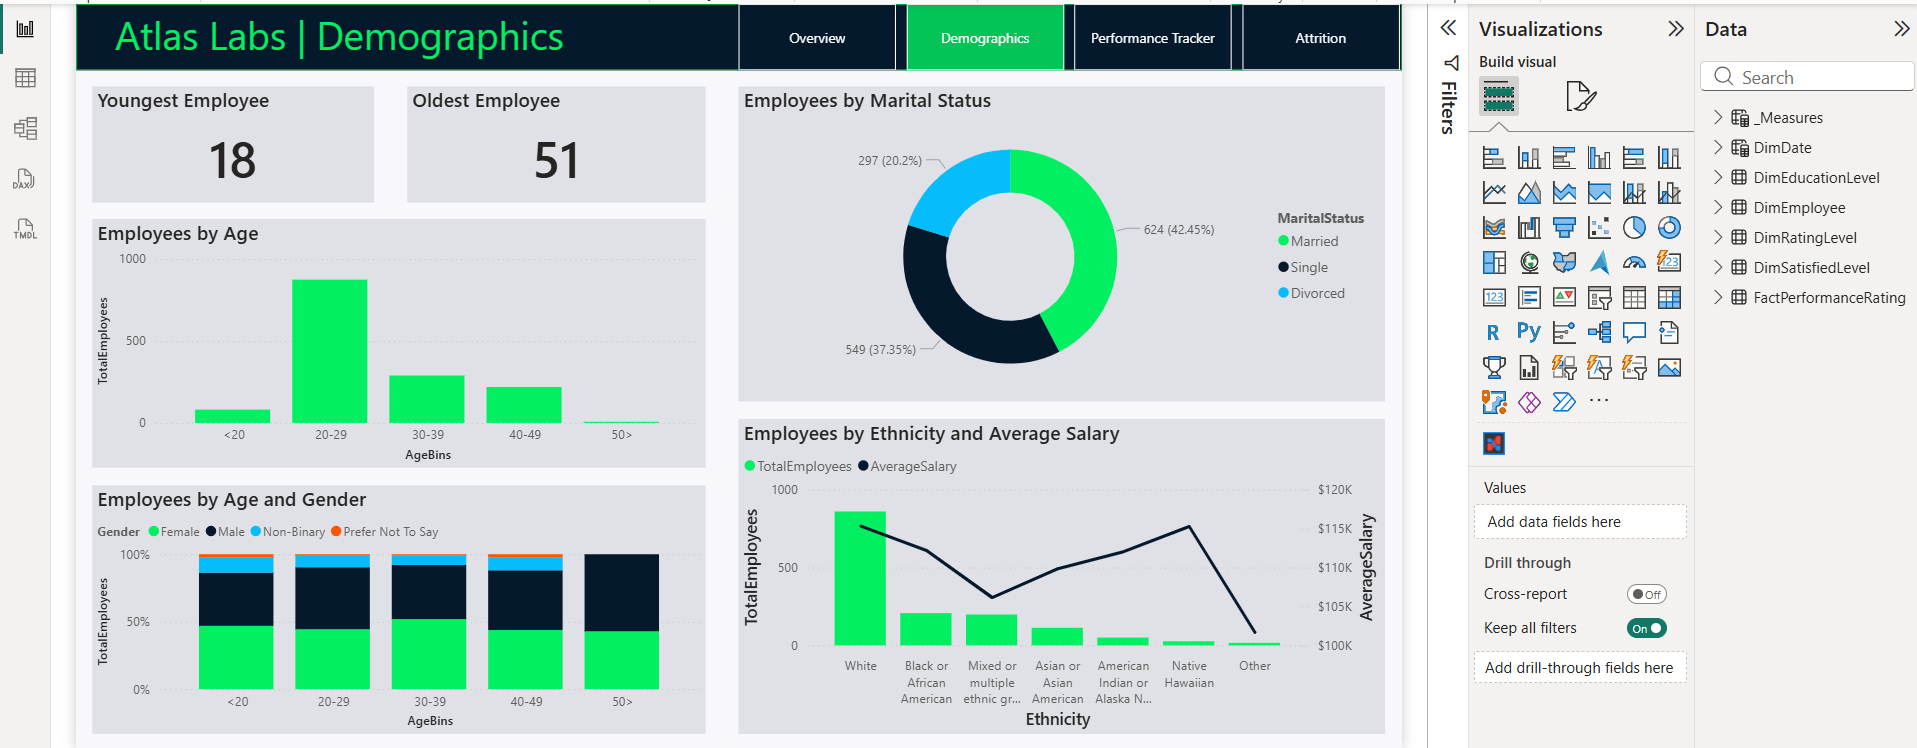

This screenshot's page, from the dashboard's own definition file:
{"tool":"powerbi","page":{"name":"Demographics","canvas":[1280,720],"ordinal":1},"visuals":[{"type":"card","title":"Youngest Employee","fields":{"Values":["Sum(DimEmployee.Age)"]},"box":[16,80,272,112],"z":0},{"type":"card","title":"Oldest Employee","fields":{"Values":["Sum(DimEmployee.Age)"]},"box":[320,80,288,112],"z":1000},{"type":"columnChart","title":"Employees by Age","fields":{"Category":["DimEmployee.AgeBins"],"Y":["_Measures.TotalEmployees"]},"box":[16,208,592,240],"z":2000},{"type":"hundredPercentStackedColumnChart","title":"Employees by Age and Gender","fields":{"Category":["DimEmployee.AgeBins"],"Series":["DimEmployee.Gender"],"Y":["_Measures.TotalEmployees"]},"box":[16,464,592,240],"z":3000},{"type":"donutChart","title":"Employees by Marital Status","fields":{"Category":["DimEmployee.MaritalStatus"],"Y":["_Measures.TotalEmployees"]},"box":[640,80,624,304],"z":4000},{"type":"lineStackedColumnComboChart","title":"Employees by Ethnicity and Average Salary","fields":{"Category":["DimEmployee.Ethnicity"],"Y":["_Measures.TotalEmployees"],"Y2":["_Measures.AverageSalary"]},"box":[640,400,624,304],"z":5000},{"type":"shape","box":[0,0,1280,64],"z":6000},{"type":"textbox","box":[32,0,624,64],"z":7000},{"type":"pageNavigator","box":[640,0,640,64],"z":8000}]}

Visuals, with their boxes on the page's 1280x720 design canvas (x1, y1, x2, y2). These are canvas units, not pixel positions in the 1917x748 screenshot, which may show the page scaled, cropped or inside an application window:
"Youngest Employee" card: bbox(16, 80, 288, 192)
"Oldest Employee" card: bbox(320, 80, 608, 192)
"Employees by Age" columnChart: bbox(16, 208, 608, 448)
"Employees by Age and Gender" hundredPercentStackedColumnChart: bbox(16, 464, 608, 704)
"Employees by Marital Status" donutChart: bbox(640, 80, 1264, 384)
"Employees by Ethnicity and Average Salary" lineStackedColumnComboChart: bbox(640, 400, 1264, 704)
shape: bbox(0, 0, 1280, 64)
textbox: bbox(32, 0, 656, 64)
pageNavigator: bbox(640, 0, 1280, 64)
